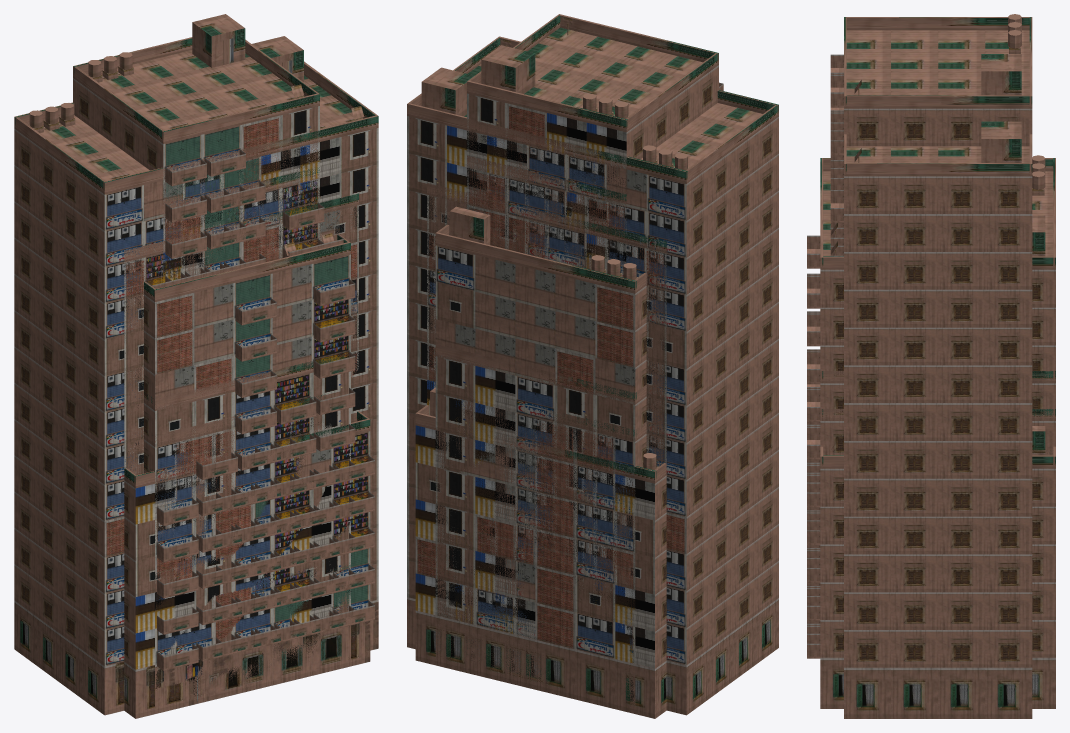
3 renders of one model, left to right at view 1: azimuth 30°, elevation 25°; view 2: azimuth 150°, elevation 25°; view 3: azimuth 270°, elevation 25°, orthographic. The views are drawn at different scales.
Visible parts, largest first — view 1: Plaster_7x4_f13_v0, Plaster_5x5_f7_v1, Plaster_4x4_f14_v0, Plaster_5x5_f10_v0, Plaster_6x5_f5_v1, Plaster_4x5_f6_v0, Plaster_4x4_f12_v0, Plaster_6x4_f11_v0, Plaster_5x5_f6_v1, Plaster_5x4_f11_v0, Plaster_5x5_f5_v0; view 2: Plaster_7x4_f13_v0, Plaster_5x5_f7_v1, Plaster_4x5_f6_v0, Plaster_5x5_f10_v0, Plaster_4x4_f14_v0, Plaster_6x5_f5_v1, Plaster_4x4_f12_v0, Plaster_6x4_f11_v0, Plaster_5x4_f11_v0, Plaster_4x5_f5_v0; view 3: Plaster_7x4_f13_v0, Plaster_4x4_f14_v0, Plaster_6x5_f5_v1, Plaster_5x5_f10_v0, Plaster_5x5_f7_v1, Plaster_4x4_f12_v0, Plaster_5x5_f6_v1.
Part boxes in pixels (left/top/right/bottom): Plaster_7x4_f13_v0: left=14, top=36, right=378, bottom=715; Plaster_5x5_f7_v1: left=144, top=354, right=350, bottom=713; Plaster_4x4_f14_v0: left=73, top=14, right=319, bottom=282; Plaster_5x5_f10_v0: left=144, top=233, right=355, bottom=632; Plaster_6x5_f5_v1: left=124, top=411, right=374, bottom=718; Plaster_4x5_f6_v0: left=174, top=393, right=331, bottom=704; Plaster_4x4_f12_v0: left=163, top=167, right=324, bottom=281; Plaster_6x4_f11_v0: left=124, top=193, right=358, bottom=474; Plaster_5x5_f6_v1: left=152, top=400, right=320, bottom=661; Plaster_5x4_f11_v0: left=144, top=198, right=339, bottom=288; Plaster_5x5_f5_v0: left=144, top=464, right=198, bottom=670; Plaster_7x4_f13_v0: left=407, top=36, right=778, bottom=715; Plaster_5x5_f7_v1: left=435, top=344, right=646, bottom=713; Plaster_4x5_f6_v0: left=455, top=397, right=615, bottom=708; Plaster_5x5_f10_v0: left=435, top=206, right=646, bottom=404; Plaster_4x4_f14_v0: left=467, top=14, right=723, bottom=203; Plaster_6x5_f5_v1: left=415, top=387, right=666, bottom=718; Plaster_4x4_f12_v0: left=467, top=155, right=626, bottom=276; Plaster_6x4_f11_v0: left=427, top=183, right=666, bottom=466; Plaster_5x4_f11_v0: left=447, top=188, right=646, bottom=277; Plaster_4x5_f5_v0: left=493, top=436, right=615, bottom=472; Plaster_7x4_f13_v0: left=830, top=121, right=1032, bottom=718; Plaster_4x4_f14_v0: left=830, top=14, right=1032, bottom=146; Plaster_6x5_f5_v1: left=807, top=426, right=1055, bottom=708; Plaster_5x5_f10_v0: left=807, top=155, right=1055, bottom=643; Plaster_5x5_f7_v1: left=807, top=371, right=1055, bottom=464; Plaster_4x4_f12_v0: left=830, top=155, right=843, bottom=255; Plaster_5x5_f6_v1: left=820, top=409, right=1055, bottom=420.
Bounding box in the file's own units: 24.5 × 50.3 × 18.5.
Materials: 1 (1 with a texture image).
